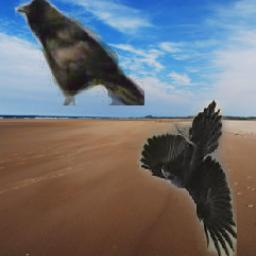Crow: (137, 100, 237, 256), (15, 0, 144, 105)
